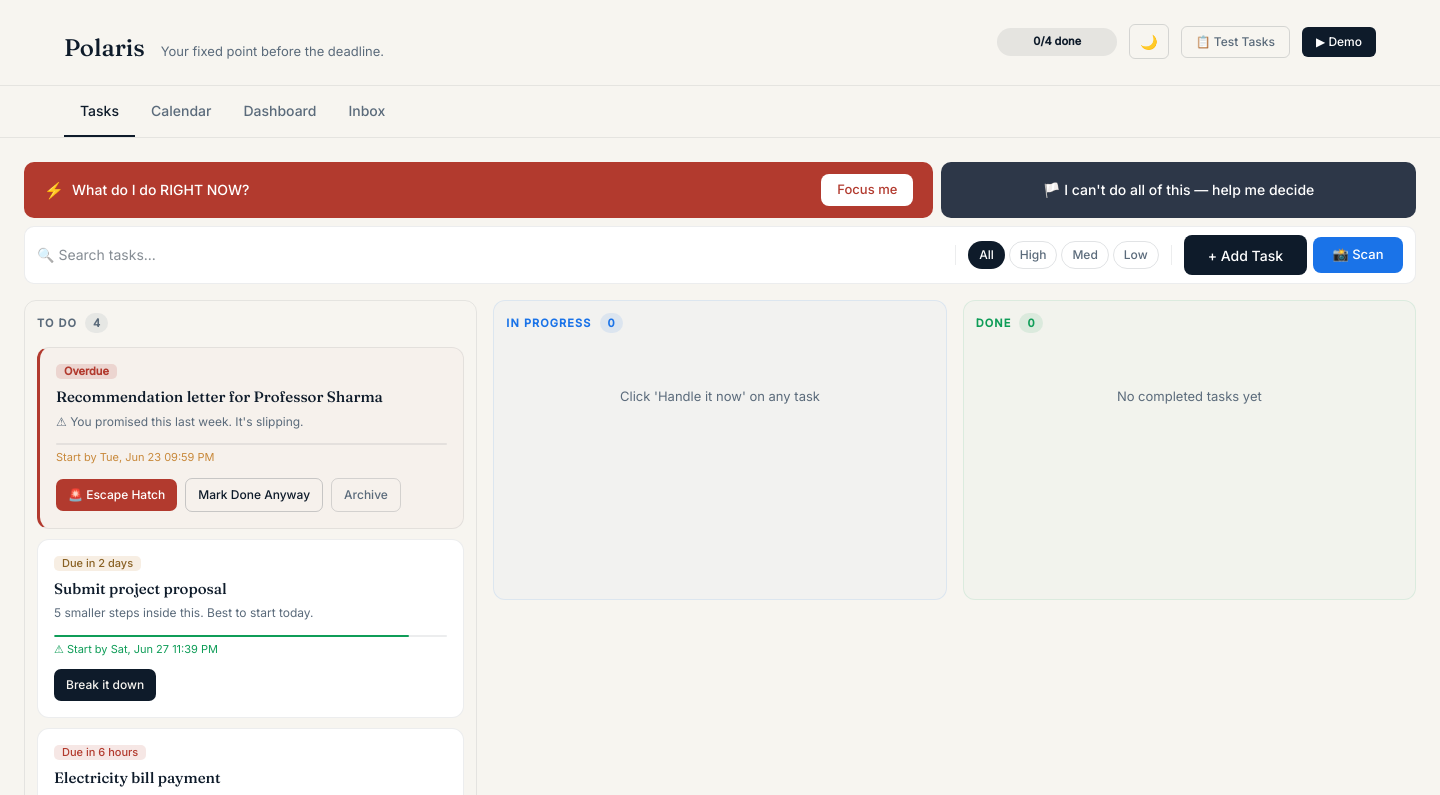
Test: New Features: Countdown, Calendar, and Dashboard › Clicking a calendar cell opens side panel
Click the button "Calendar". click: {"x": 181, "y": 112}
box: left=135, top=86, right=227, bottom=137
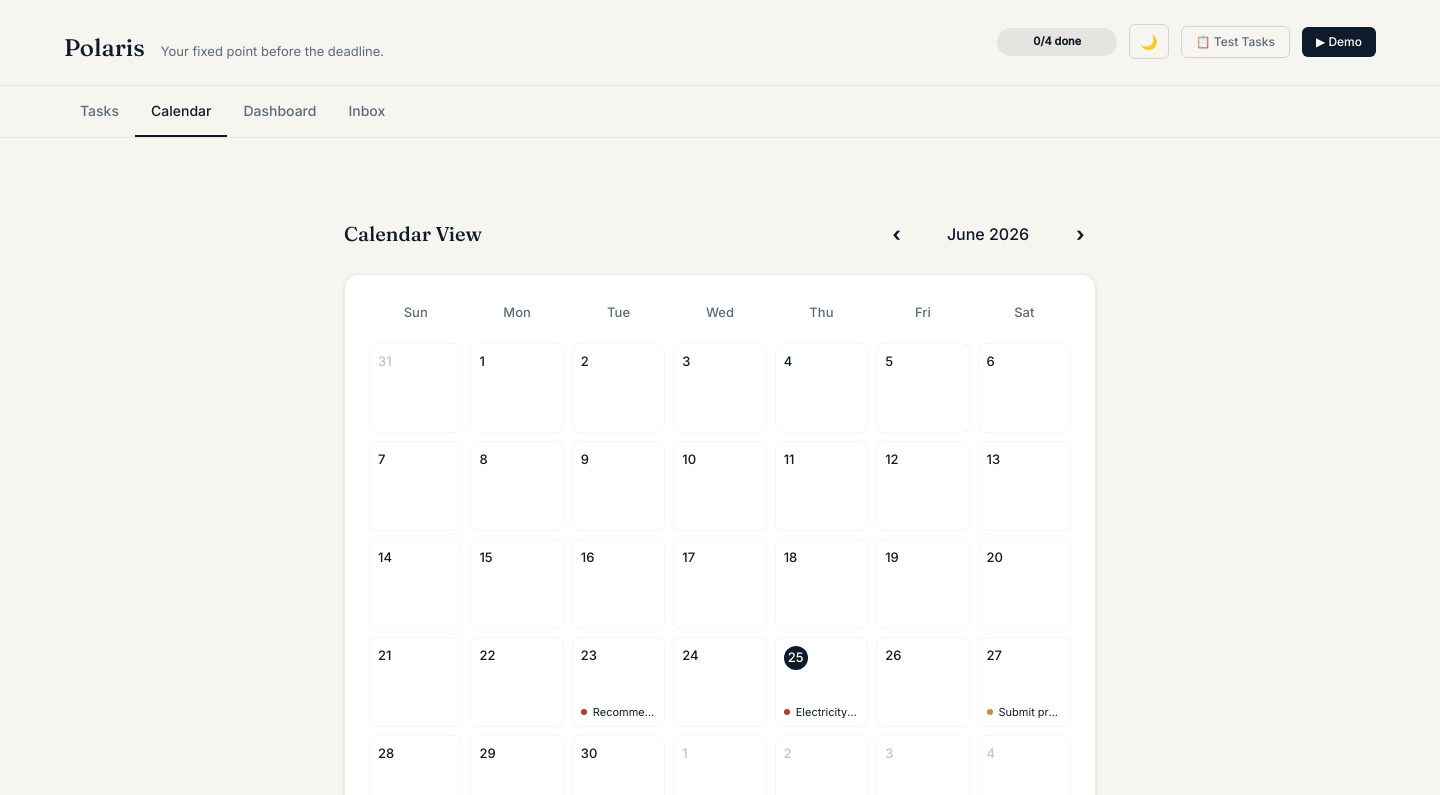
Click the element with class "calendar-cell" showing "31". click: {"x": 416, "y": 388}
box: left=369, top=342, right=462, bottom=432
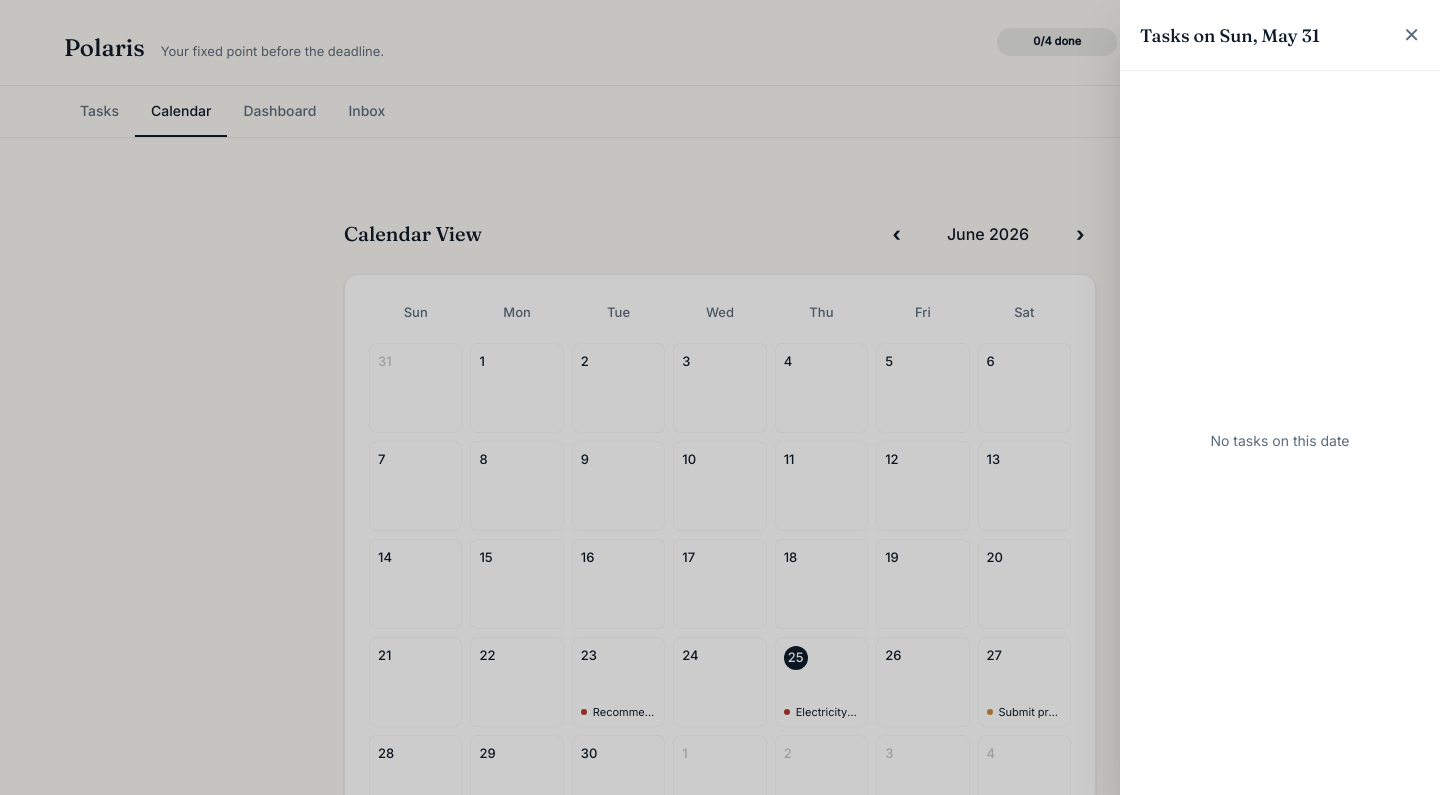
Expected: the heading "Tasks on Sun, May 31" is shown, left=1140, top=22, right=1320, bottom=48
